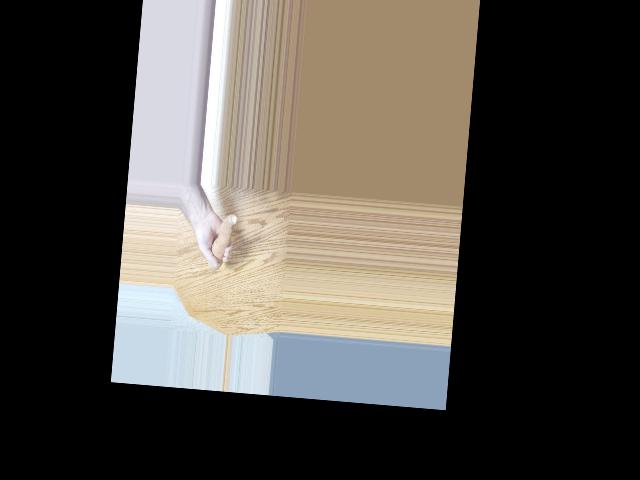sweet_potato: (208, 209, 237, 274)
